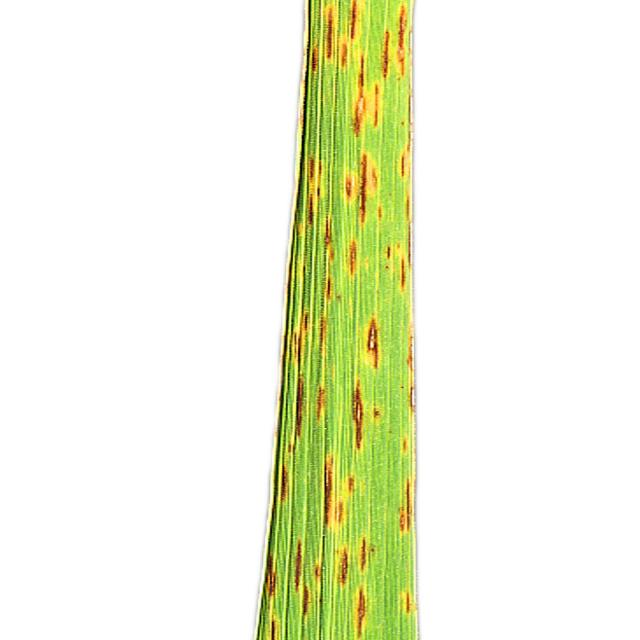Narrow brown: (232, 4, 454, 640)
